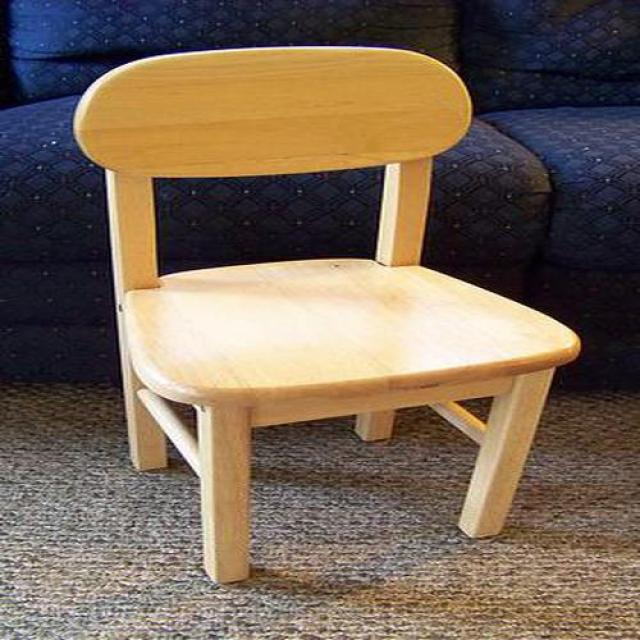chair: (73, 47, 582, 589)
